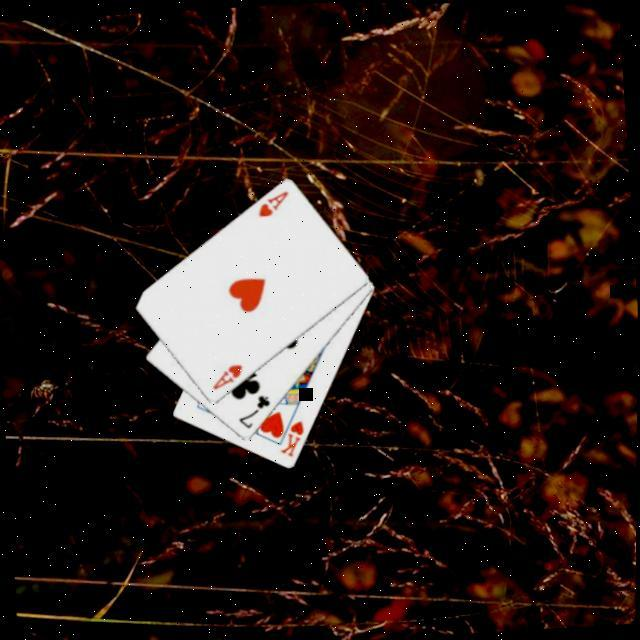7C: (234, 388, 276, 432)
AH: (254, 185, 294, 220), (208, 360, 248, 392)
KH: (276, 416, 310, 458)
